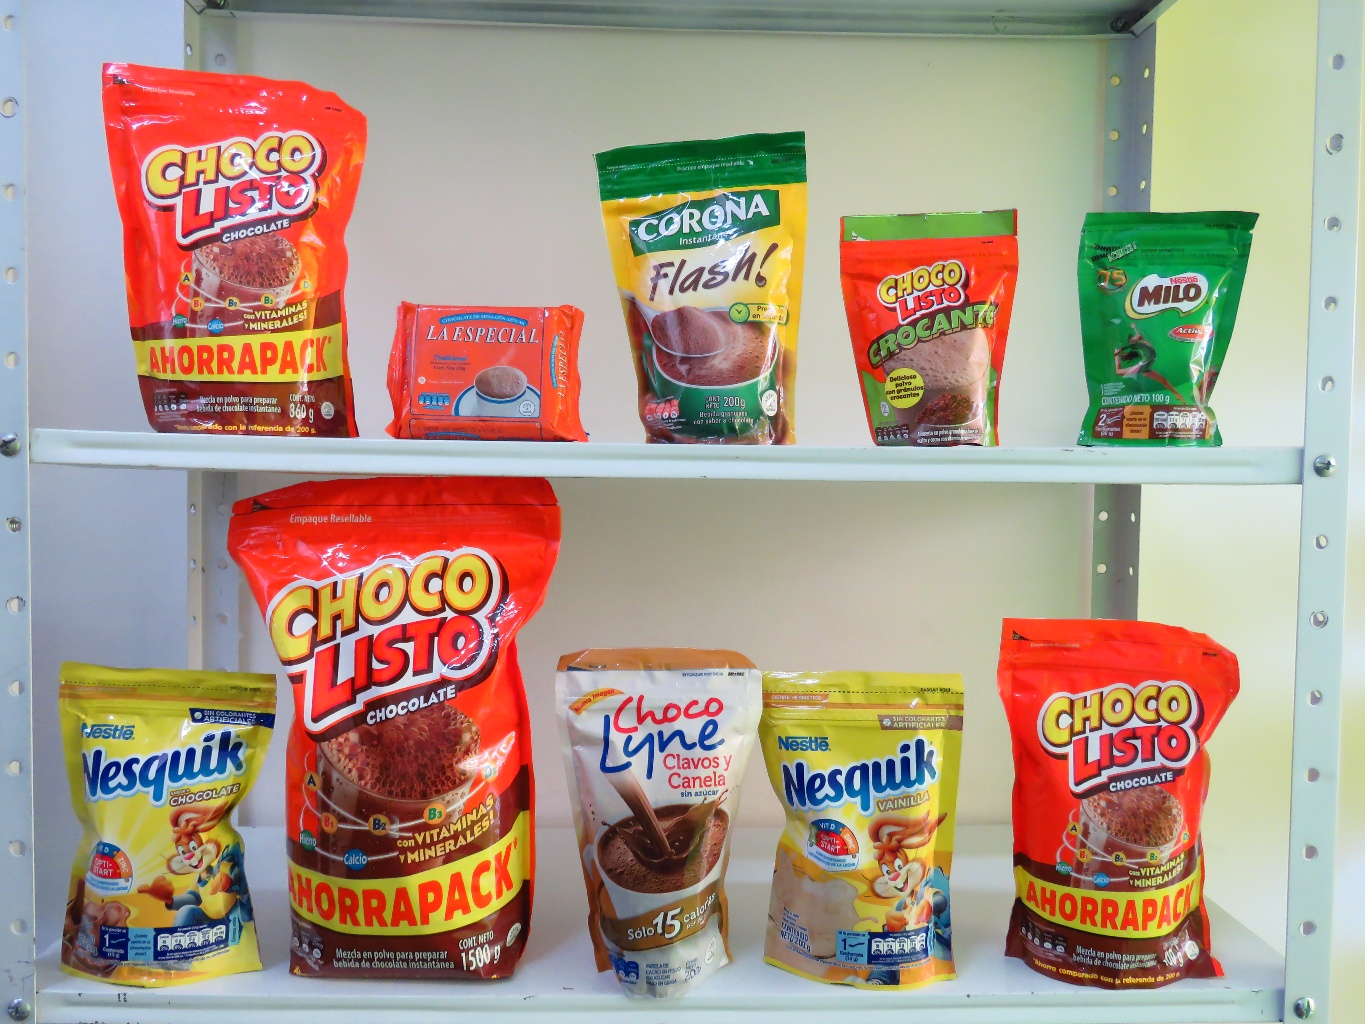COL0170102DYP10000: (841, 212, 1035, 452)
COL0170103DYP1,500: (229, 473, 544, 985)
COL0170103DYP36000: (96, 51, 385, 439)
COL0170103DYP40000: (999, 605, 1259, 990)
COL0170203DYP10000: (1080, 210, 1265, 455)
COL0170303DYP20000: (57, 660, 275, 995)
COL0170306DYP20000: (755, 650, 979, 999)
